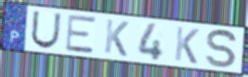4: (136, 22, 165, 62)
E: (64, 14, 97, 55)
K: (102, 18, 130, 59), (173, 25, 201, 66)
S: (205, 28, 238, 70)
U: (29, 9, 63, 50)
